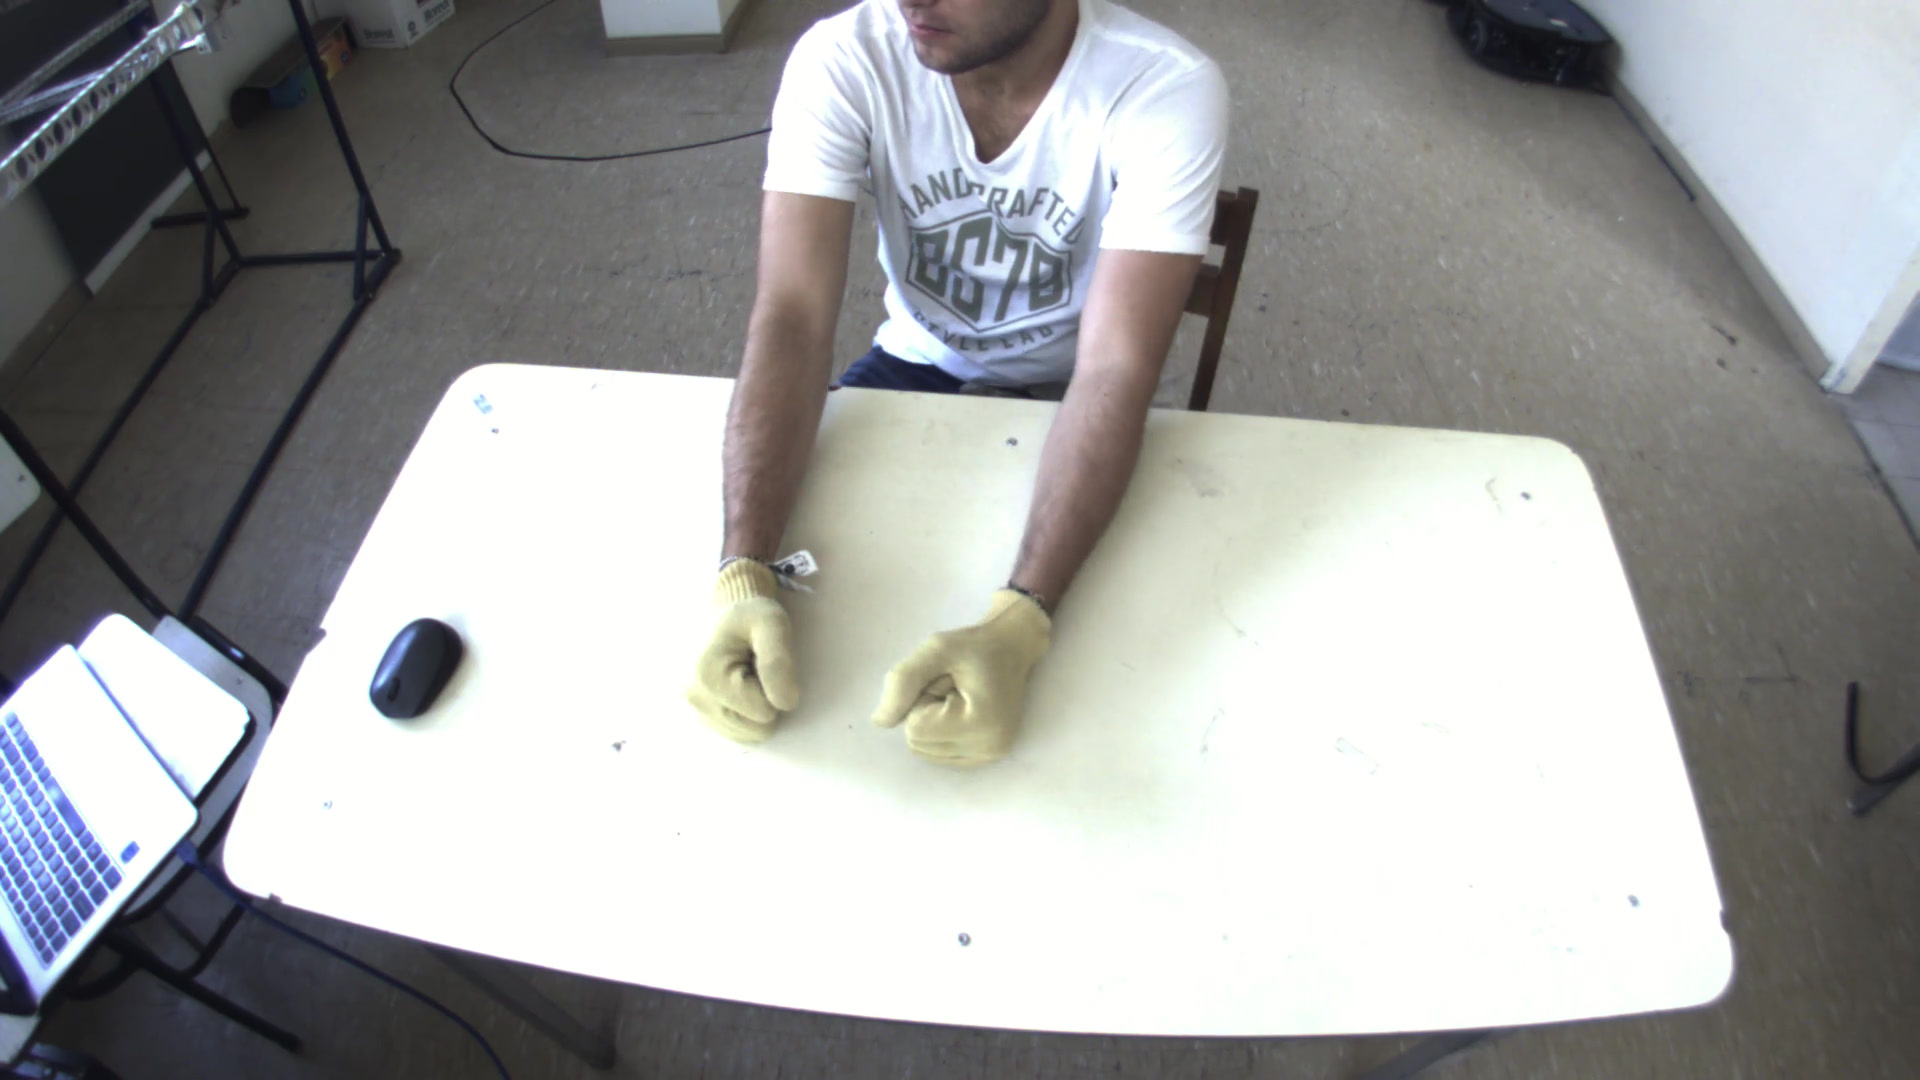hand: (866, 582, 1073, 781), (673, 553, 812, 752)
